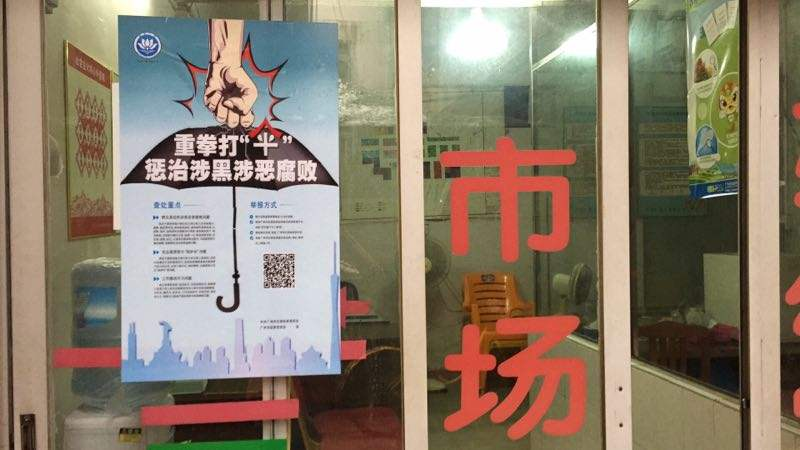bill: (118, 13, 339, 382)
